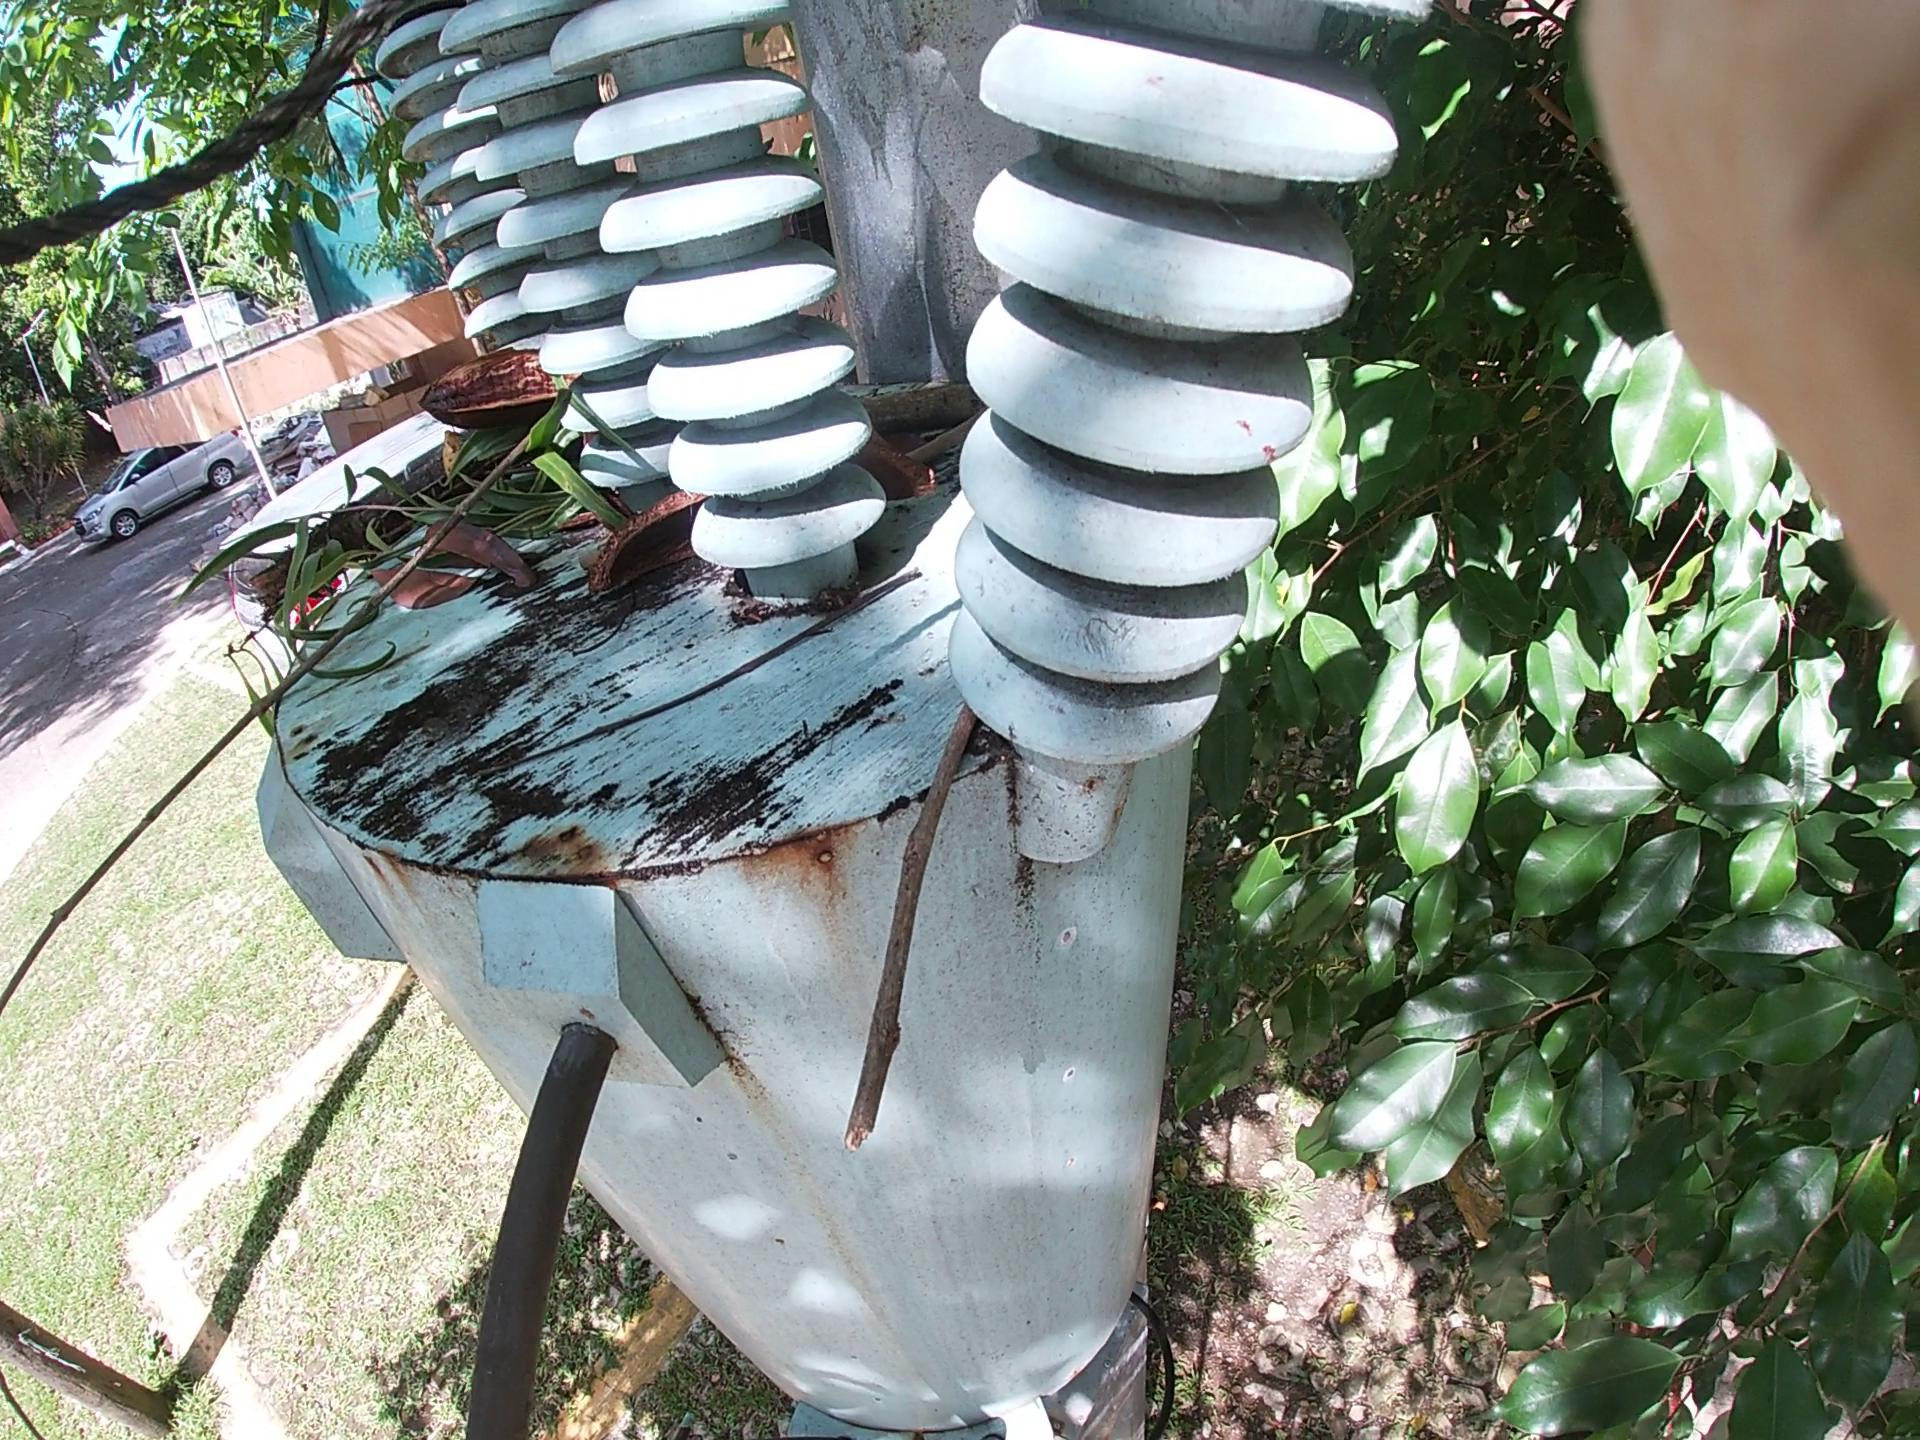branch with leaves: (177, 172, 906, 644)
leaf: (358, 507, 534, 653)
mahogany fruit: (544, 495, 770, 607), (425, 337, 621, 437)
tree branch: (29, 421, 612, 967), (869, 684, 1045, 1166), (571, 585, 906, 744)
